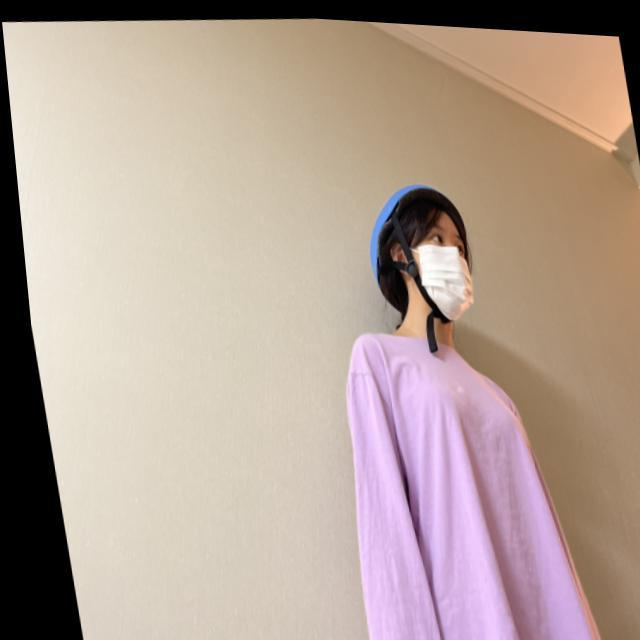Helmet: (359, 170, 489, 334)
